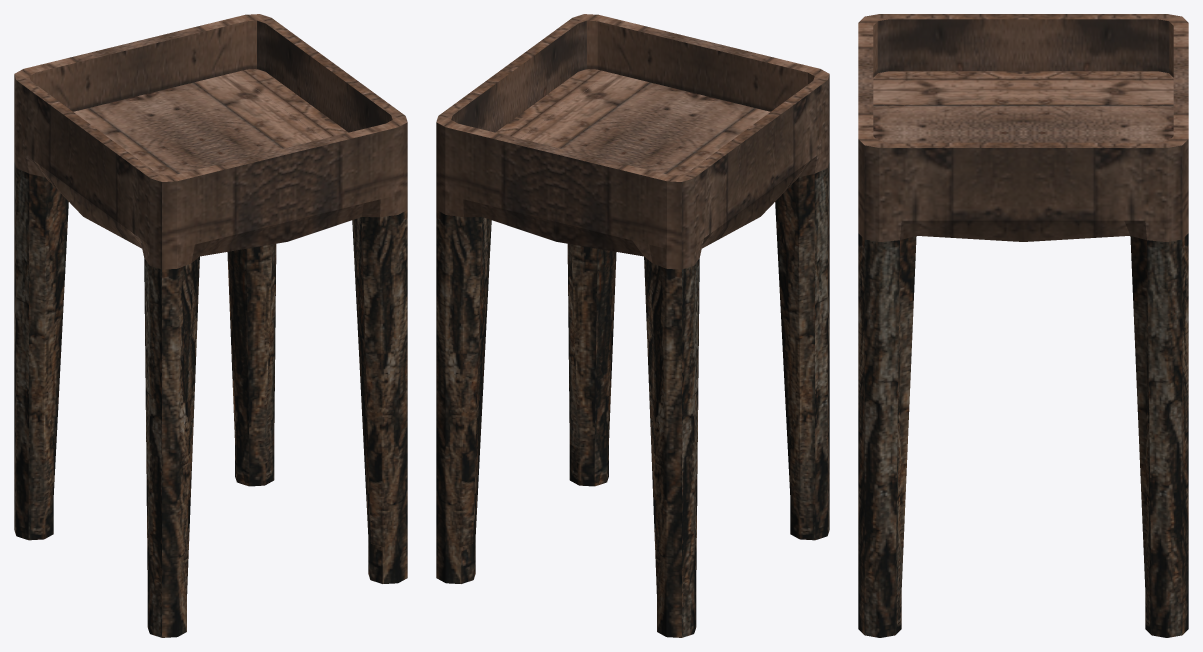
Rendered from toren_1.fbx.
The picture shows the model from 3 angles, left to right: view 1: azimuth 30°, elevation 25°; view 2: azimuth 150°, elevation 25°; view 3: azimuth 270°, elevation 25°; orthographic projection. The views are drawn at different scales.
Visible parts, largest first — view 1: Cube; view 2: Cube; view 3: Cube.
Boxes of the visible parts, <box> form: Cube: <box>14,14,407,637</box>; Cube: <box>436,14,829,637</box>; Cube: <box>858,14,1188,637</box>.
Bounding box in the file's own units: 565 × 963 × 588.
